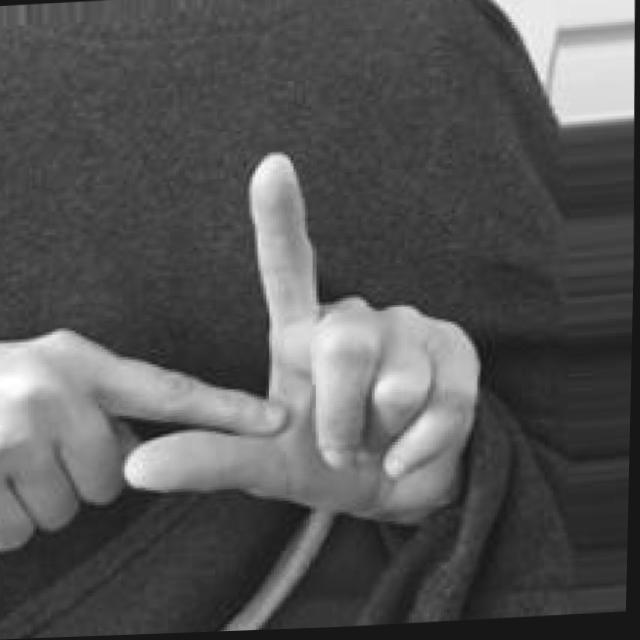J: (0, 132, 494, 558)
